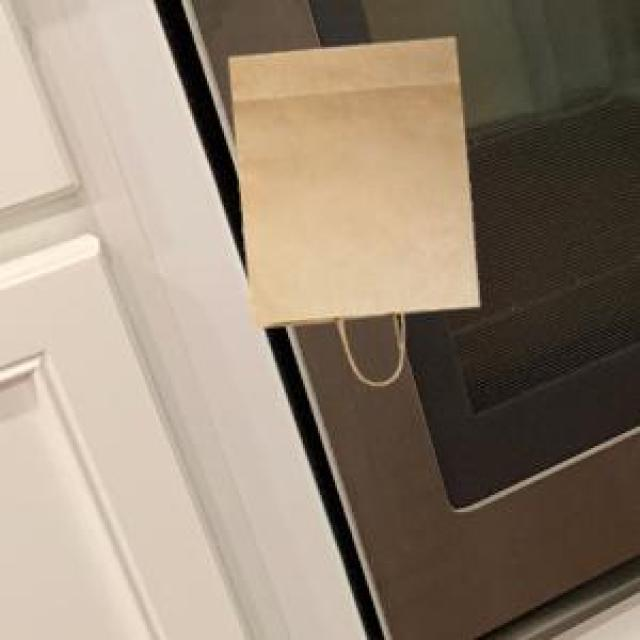paper: (226, 34, 476, 339)
